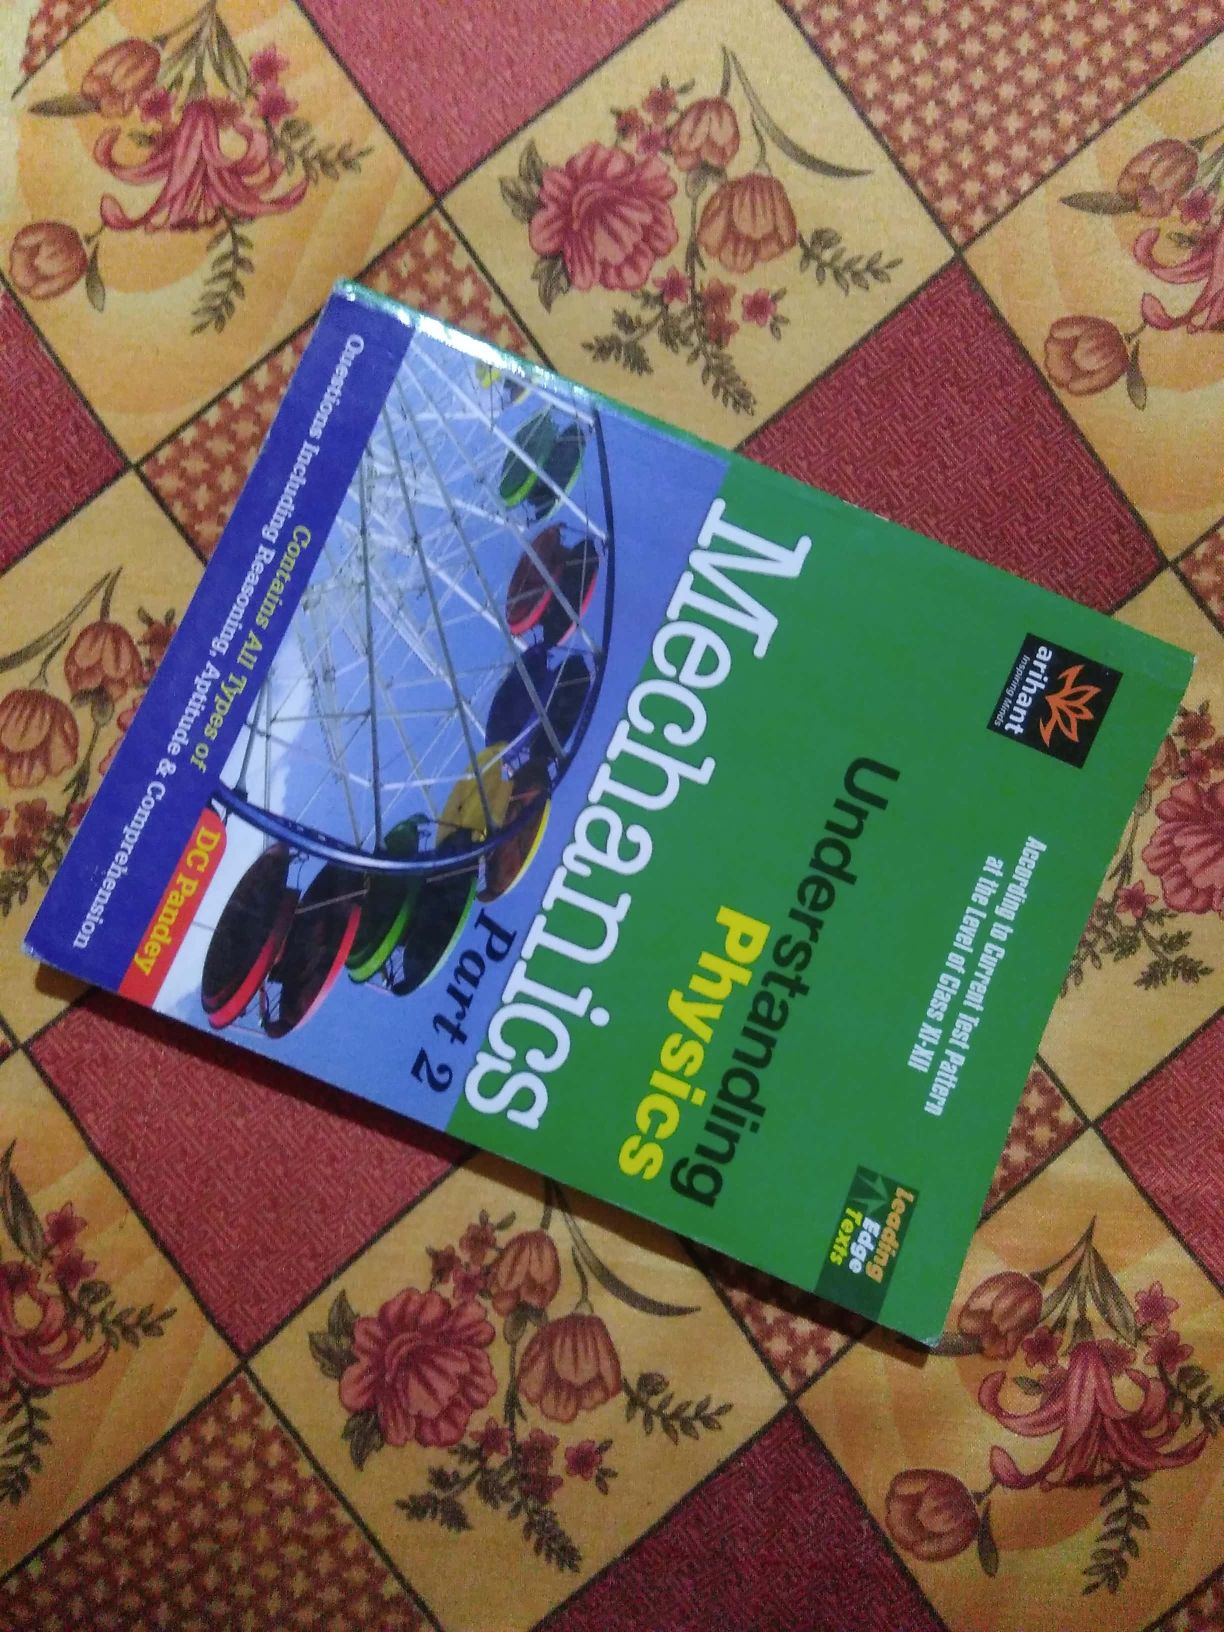mechanics: (73, 258, 1170, 1375)
